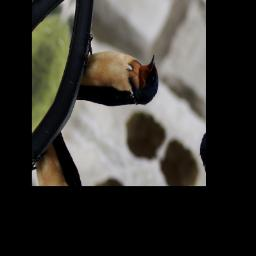Swallow: (60, 5, 170, 151)
